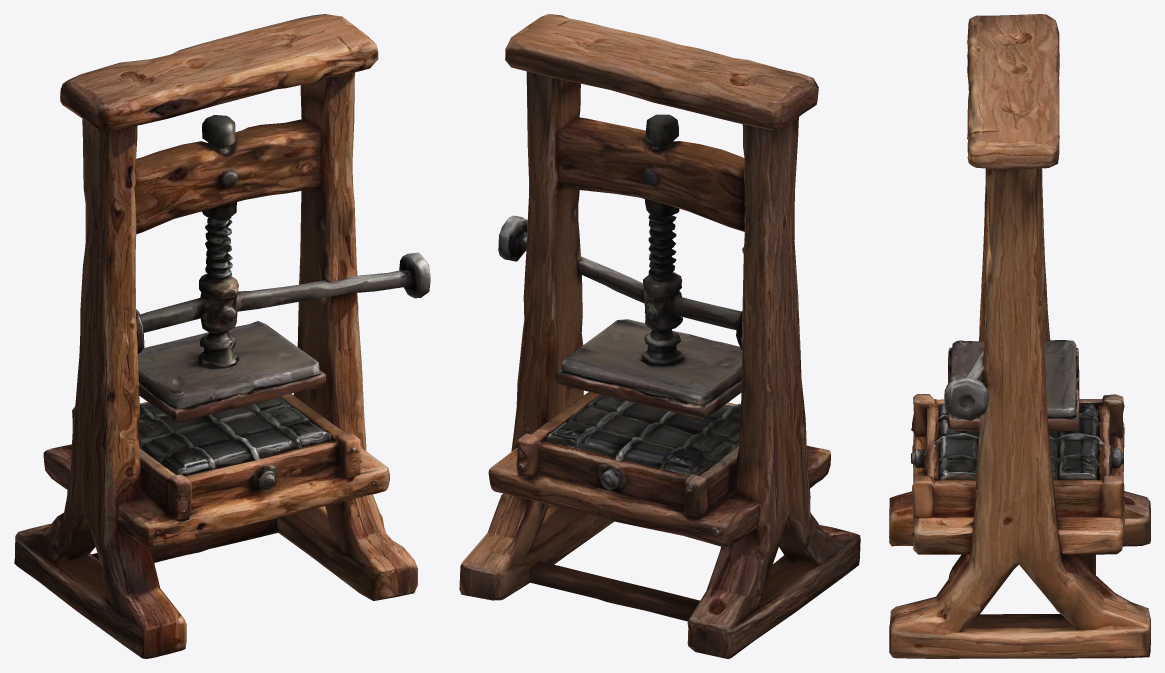
The model's file is press.glb.
3 renders of one model, left to right at view 1: azimuth 30°, elevation 25°; view 2: azimuth 150°, elevation 25°; view 3: azimuth 270°, elevation 25°, orthographic.
Visible parts, largest first — view 1: tripo_node_9e353b48-6310-488b-9636-9ddf36610d52; view 2: tripo_node_9e353b48-6310-488b-9636-9ddf36610d52; view 3: tripo_node_9e353b48-6310-488b-9636-9ddf36610d52.
Part boxes in pixels (bbox=[...]): tripo_node_9e353b48-6310-488b-9636-9ddf36610d52: bbox=[14, 14, 430, 658]; tripo_node_9e353b48-6310-488b-9636-9ddf36610d52: bbox=[459, 14, 860, 658]; tripo_node_9e353b48-6310-488b-9636-9ddf36610d52: bbox=[889, 14, 1150, 658].
Size of the model in its own units: 0.629 by 0.9786 by 0.4499.
Materials: 1 (1 with a texture image).
